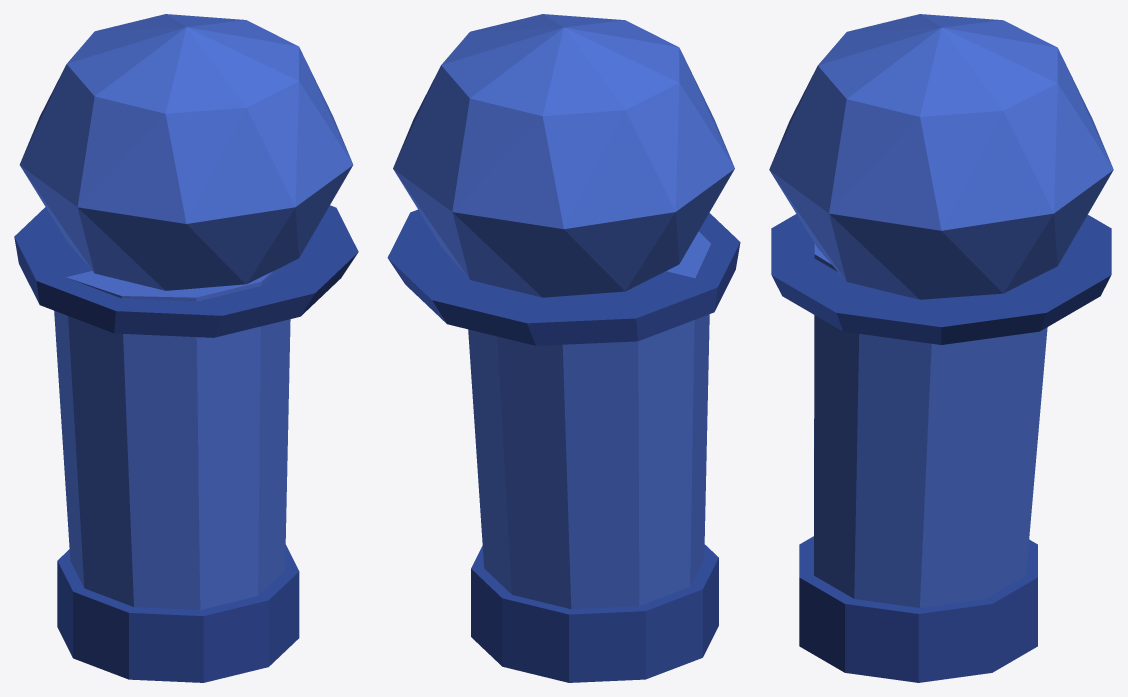
File: gear_mithril_body_arm_l.glb
3 views of the same model, side by side, from view 1: azimuth 30°, elevation 25°; view 2: azimuth 150°, elevation 25°; view 3: azimuth 270°, elevation 25° (orthographic). The views are drawn at different scales.
Parts seen in each view (by area): view 1: gear_mithril_body_arm_l; view 2: gear_mithril_body_arm_l; view 3: gear_mithril_body_arm_l.
Boxes of the visible parts, x1=… form: gear_mithril_body_arm_l: x1=14, y1=14, x2=358, y2=682; gear_mithril_body_arm_l: x1=387, y1=14, x2=740, y2=682; gear_mithril_body_arm_l: x1=769, y1=14, x2=1113, y2=682.
Size of the model in its own units: 0.188 by 0.355 by 0.1812.
